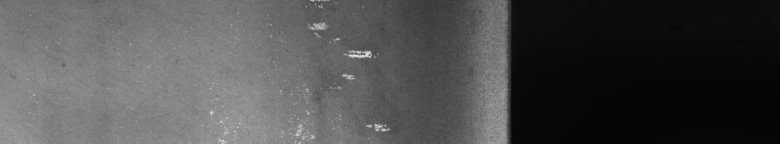hc: (209, 4, 397, 136)
